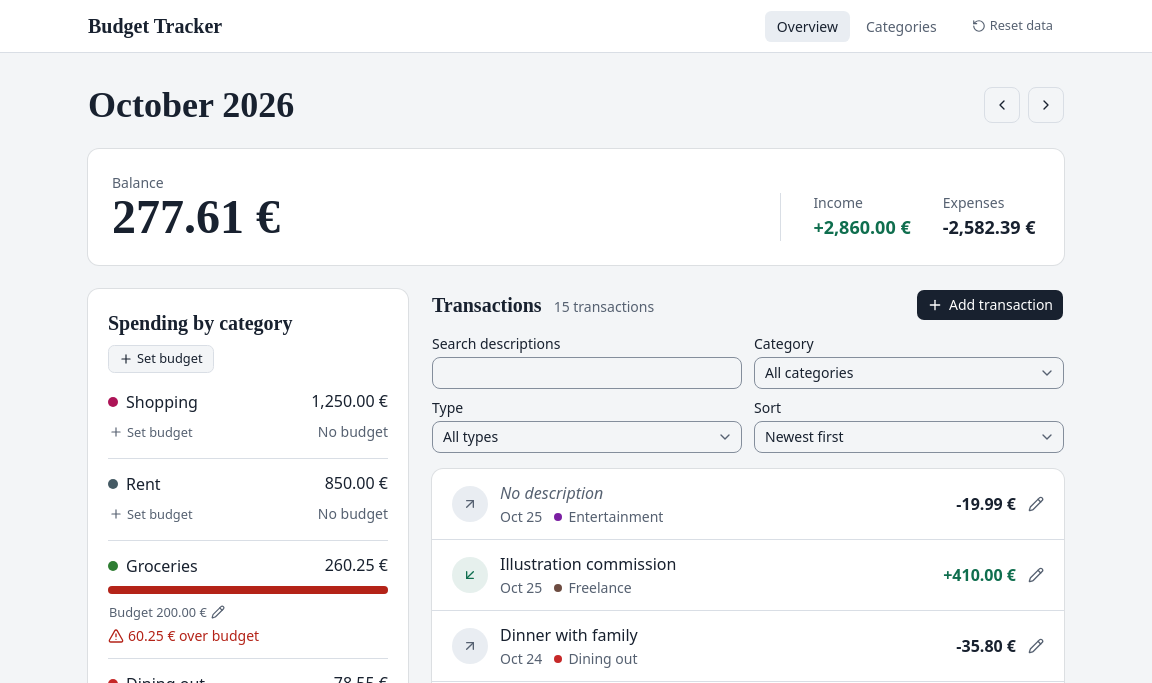
Scenario: setting a budget › sets a budget from a category row, and going over it is shown
Click the button with aria-label "Set budget for Shopping" at (151, 432), box x1=98 y1=418 x2=204 y2=446
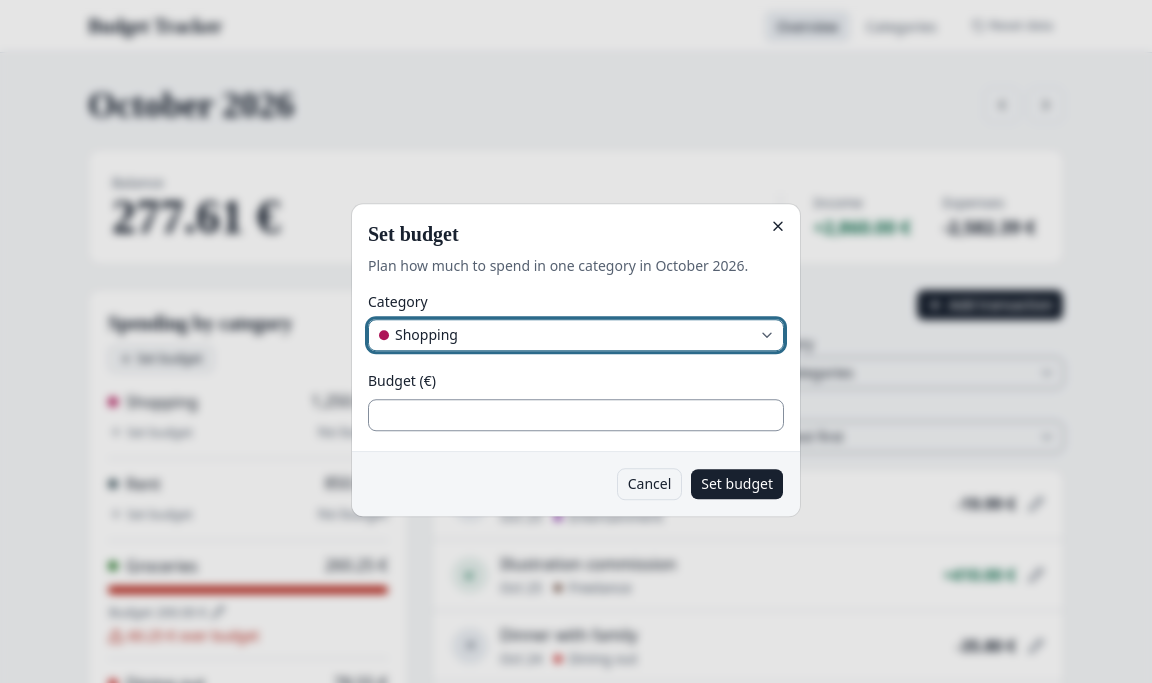
Result: the dropdown named "Category" reads "Shopping" at x1=368 y1=320 x2=784 y2=352
Type "1000" into the field labelled "Budget (€)" at (576, 415), box x1=368 y1=399 x2=784 y2=431
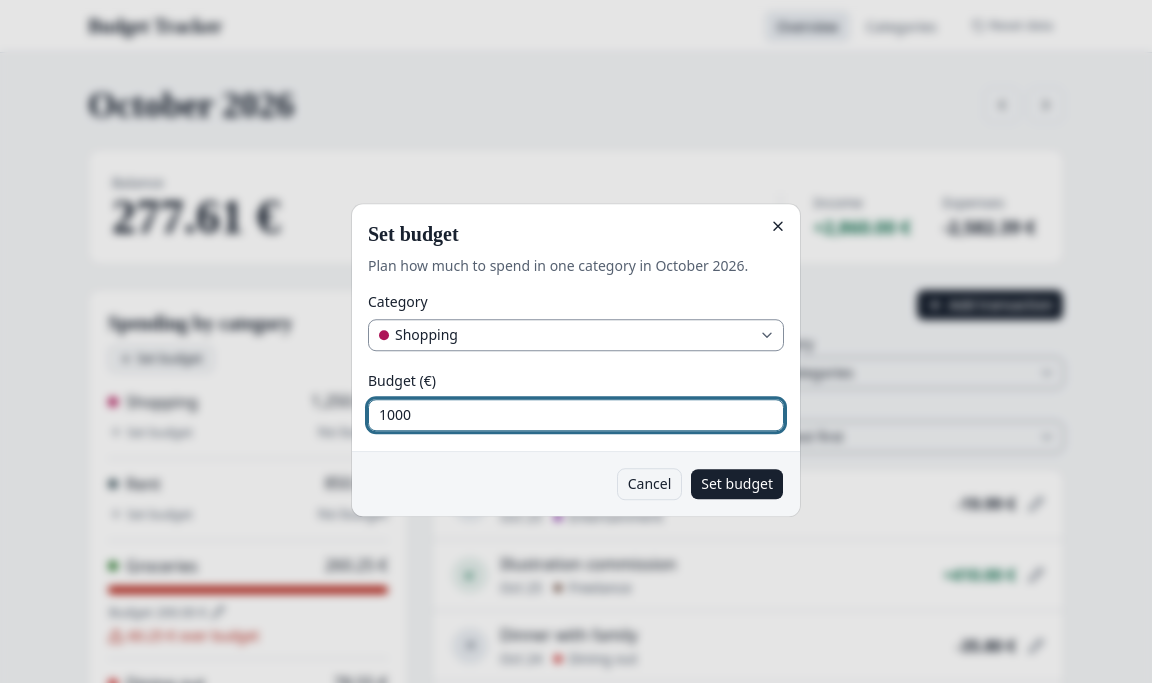
Click the button "Set budget" at (737, 484), box x1=690 y1=468 x2=784 y2=500
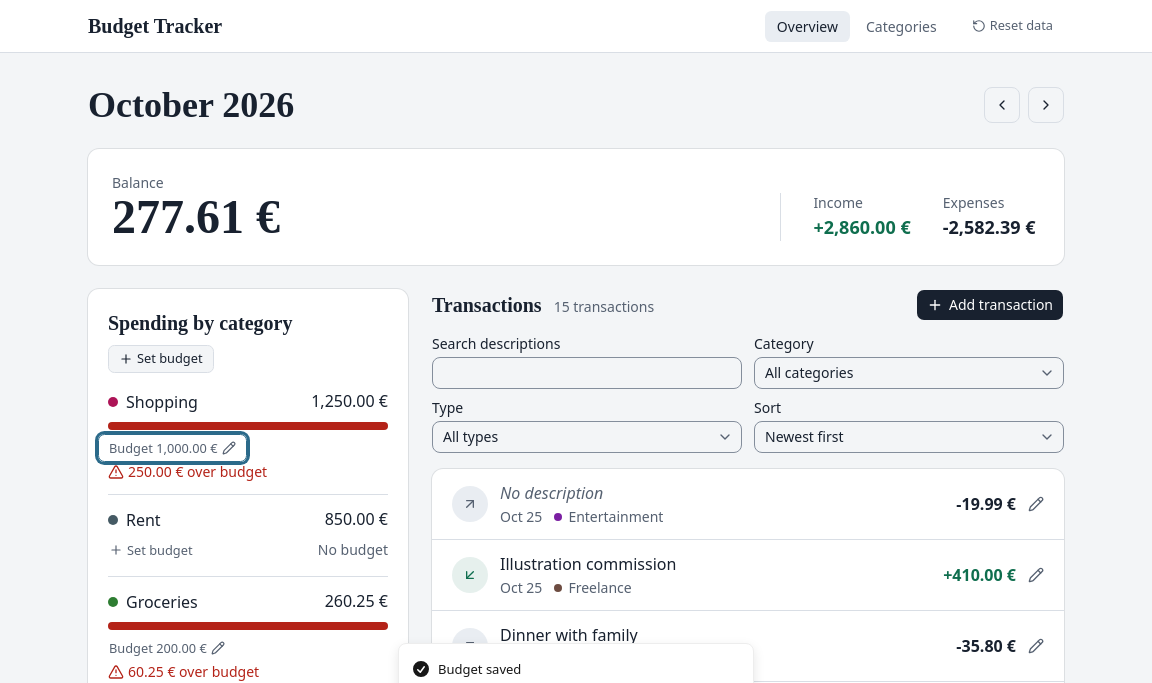
Result: the text "Budget saved" is shown at x1=438 y1=660 x2=521 y2=679
Result: the button with aria-label "Change Shopping budget, 1,000.00 €" is shown at x1=98 y1=434 x2=247 y2=462
Result: the text "250.00 € over budget" is shown at x1=108 y1=462 x2=267 y2=482
